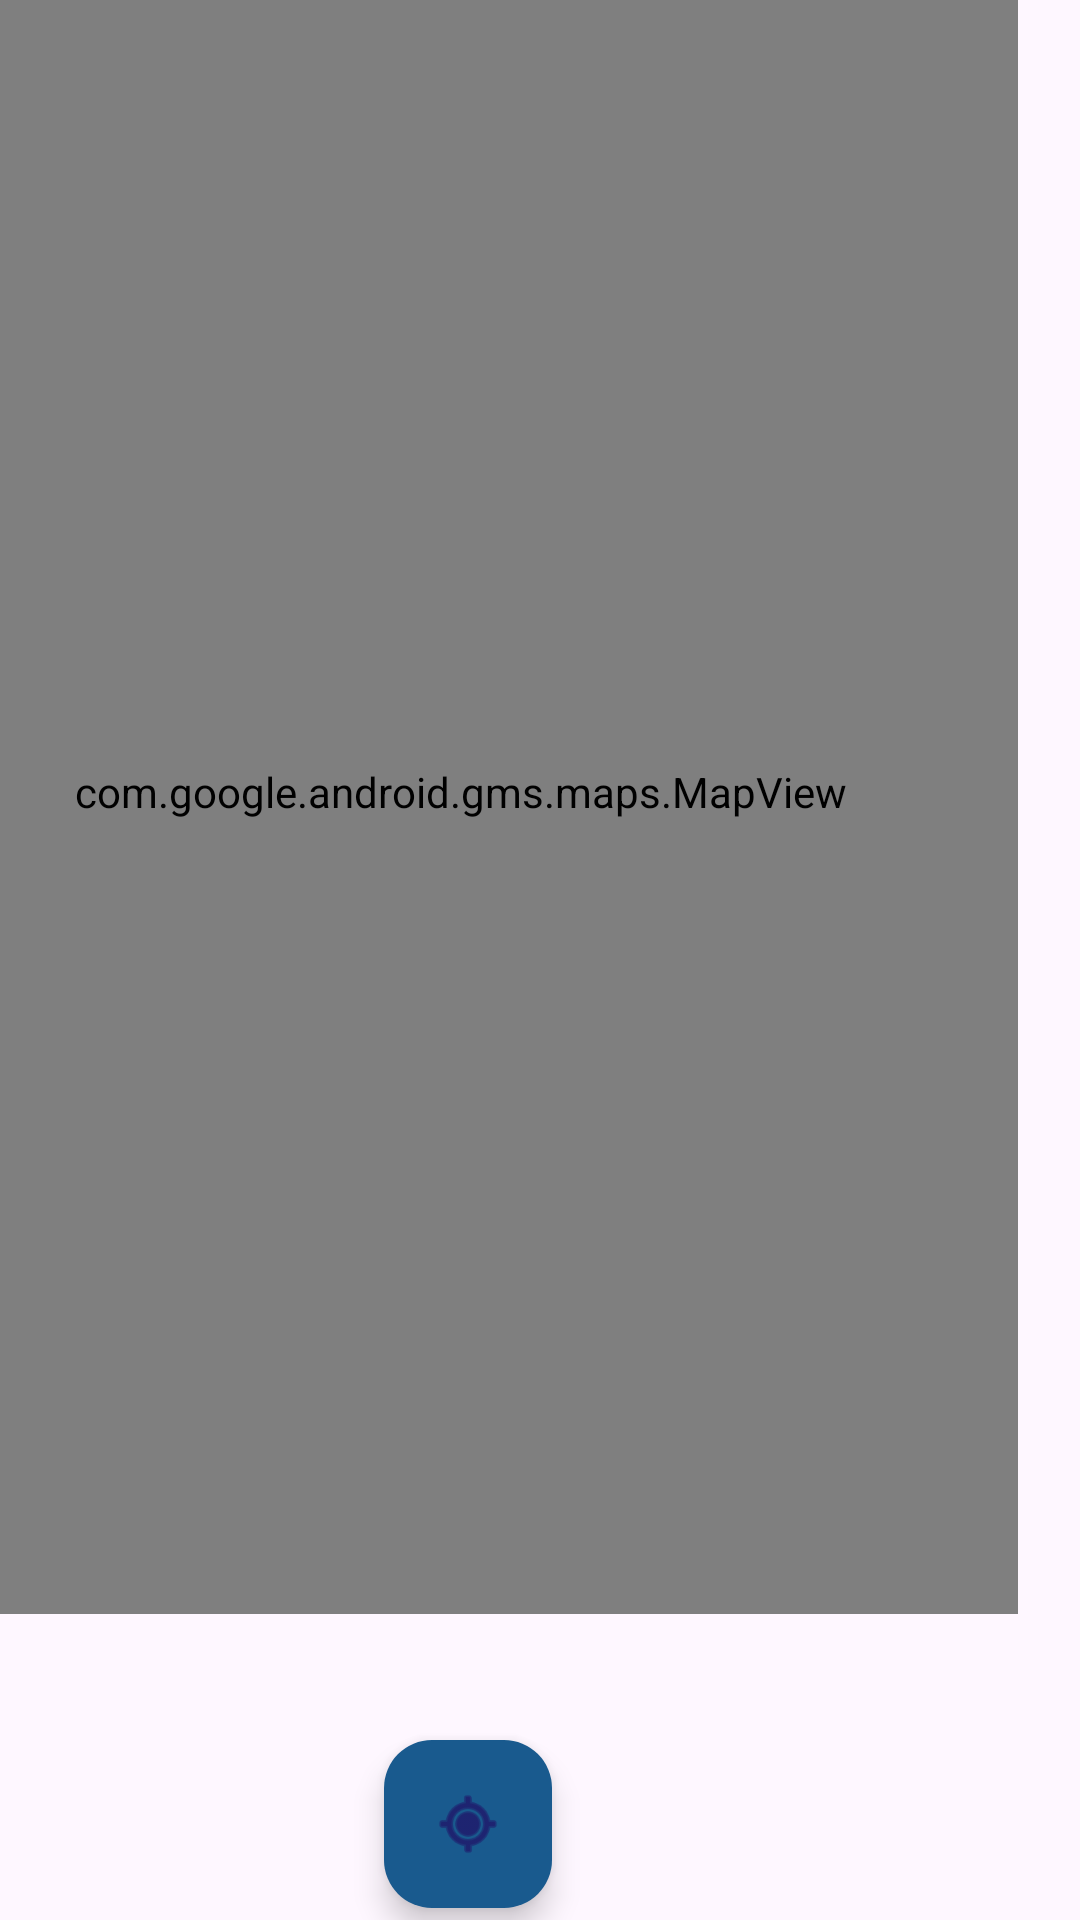

Where icons sit on this 1080px x 1920px app screen, as Rect(x1, y1, x2, y2):
mylocation: Rect(384, 1740, 552, 1908)
